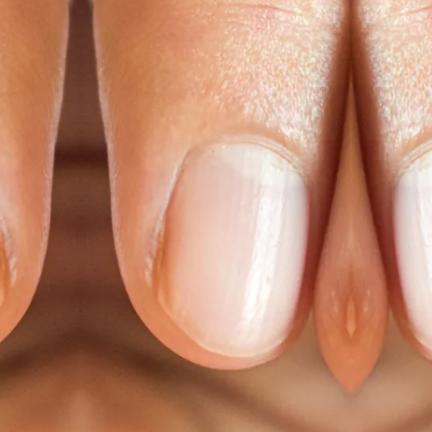Nail: (158, 142, 309, 356), (392, 149, 432, 350), (0, 255, 2, 305)
